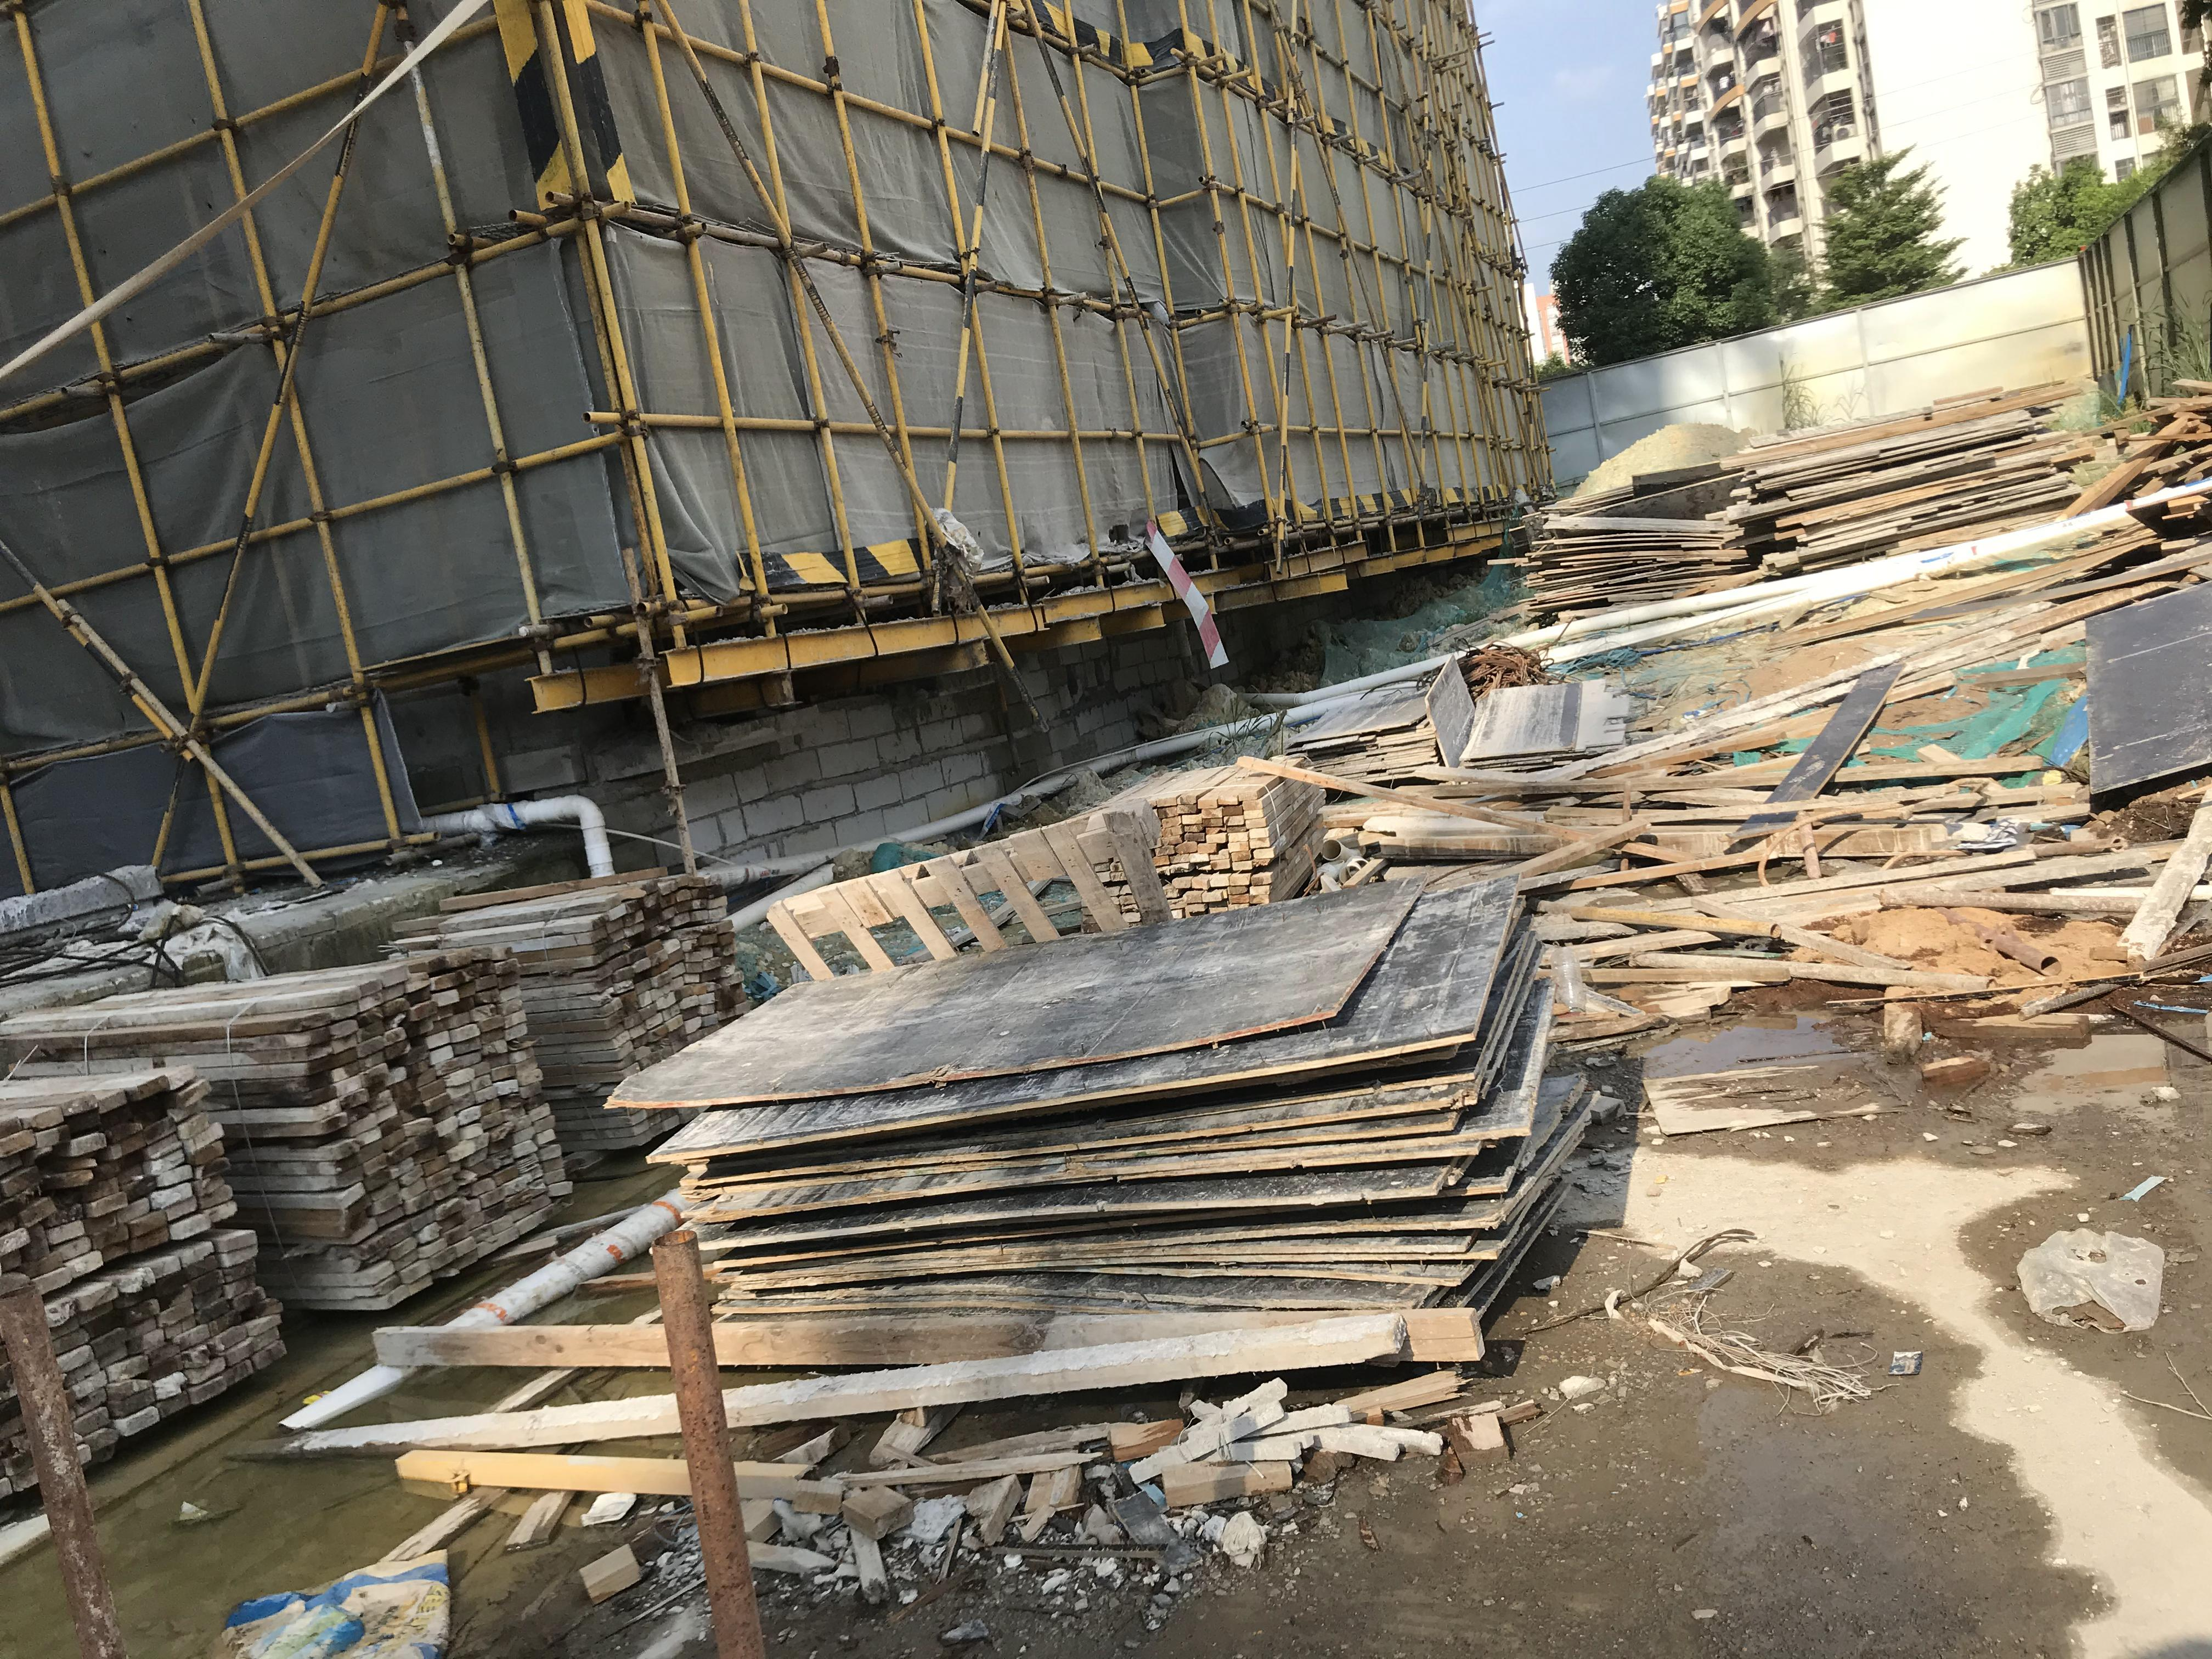board: (599, 845, 1590, 1352), (1723, 396, 2081, 552), (1514, 483, 1747, 601)
wood: (5, 945, 589, 1265), (0, 1060, 314, 1455), (354, 845, 735, 1110), (1071, 711, 1357, 922)
